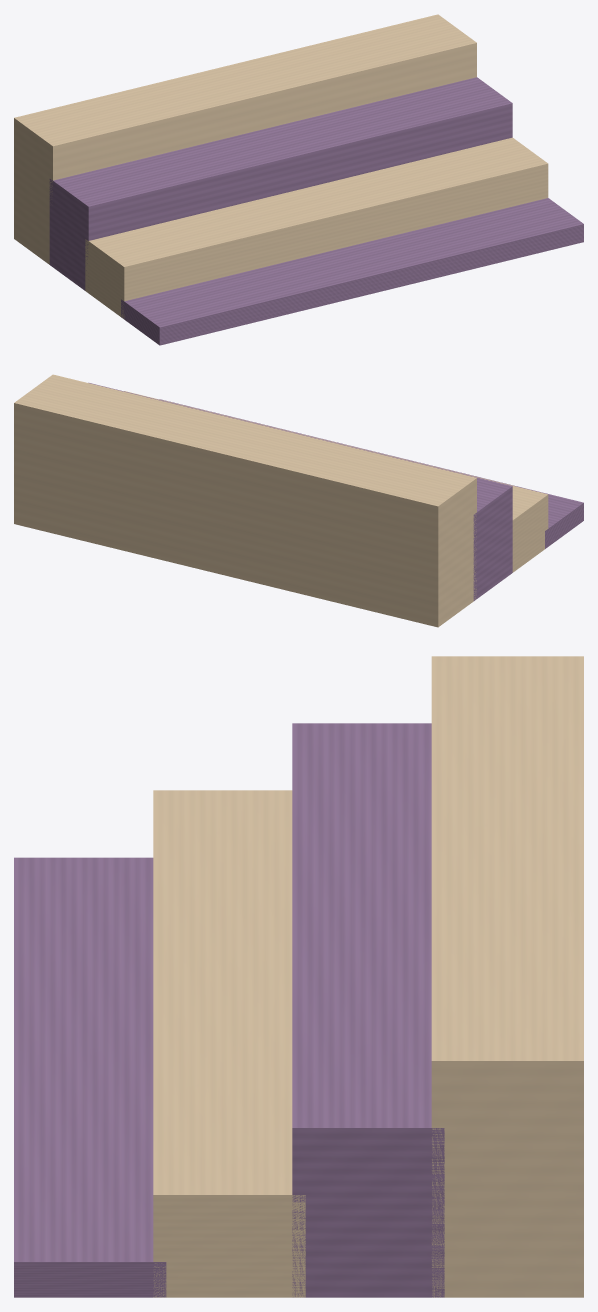
File: atlas100-s081-a10.lod2.glb
3 views of the same model, one above another, from view 1: azimuth 30°, elevation 25°; view 2: azimuth 150°, elevation 25°; view 3: azimuth 270°, elevation 25° (orthographic). The views are drawn at different scales.
Visible parts, largest first — view 1: atlas100-s081-a10:part-003, atlas100-s081-a10:part-002, atlas100-s081-a10:part-001, atlas100-s081-a10:part-000; view 2: atlas100-s081-a10:part-003, atlas100-s081-a10:part-002, atlas100-s081-a10:part-001, atlas100-s081-a10:part-000; view 3: atlas100-s081-a10:part-003, atlas100-s081-a10:part-002, atlas100-s081-a10:part-001, atlas100-s081-a10:part-000.
Boxes of the visible parts, x1=… form: atlas100-s081-a10:part-003: x1=14, y1=14, x2=476, y2=264; atlas100-s081-a10:part-002: x1=49, y1=77, x2=512, y2=290; atlas100-s081-a10:part-001: x1=85, y1=137, x2=548, y2=319; atlas100-s081-a10:part-000: x1=121, y1=198, x2=583, y2=345; atlas100-s081-a10:part-003: x1=14, y1=374, x2=476, y2=627; atlas100-s081-a10:part-002: x1=88, y1=382, x2=512, y2=600; atlas100-s081-a10:part-001: x1=124, y1=391, x2=548, y2=572; atlas100-s081-a10:part-000: x1=159, y1=399, x2=583, y2=548; atlas100-s081-a10:part-003: x1=431, y1=656, x2=583, y2=1297; atlas100-s081-a10:part-002: x1=292, y1=723, x2=444, y2=1297; atlas100-s081-a10:part-001: x1=153, y1=790, x2=305, y2=1297; atlas100-s081-a10:part-000: x1=14, y1=857, x2=166, y2=1297.
Bounding box in the file's own units: 2.2 × 0.6 × 1.31.
2 materials, 2 textured.
